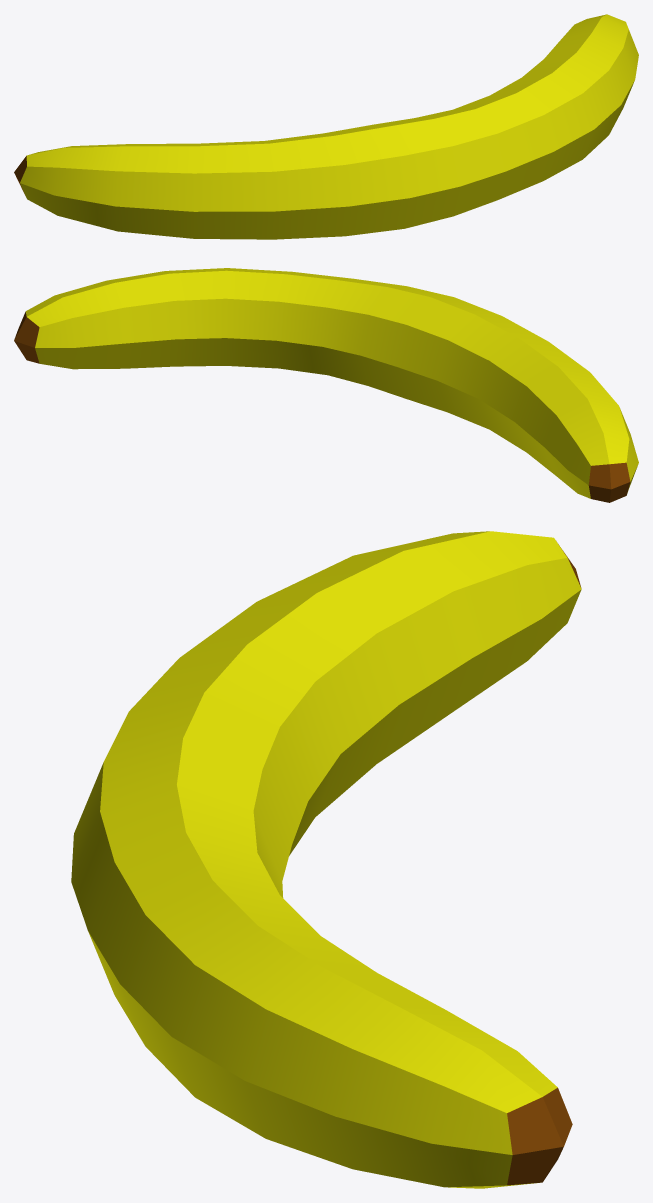
The model's file is I_Fruit_2.fbx.
3 views of the same model, one above another, from view 1: azimuth 30°, elevation 25°; view 2: azimuth 150°, elevation 25°; view 3: azimuth 270°, elevation 25° (orthographic). The views are drawn at different scales.
Parts seen in each view (by area): view 1: Cube.002; view 2: Cube.002; view 3: Cube.002.
Part boxes in pixels (<box>): Cube.002: <box>14,14,638,239</box>; Cube.002: <box>14,268,638,502</box>; Cube.002: <box>71,531,581,1188</box>.
Bounding box in the file's own units: 20.86 × 3.3 × 7.59.
